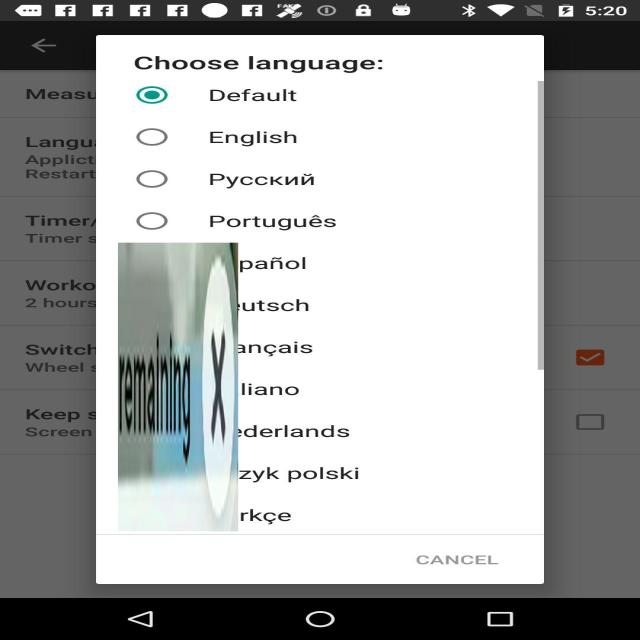misdirection: (118, 243, 238, 531)
